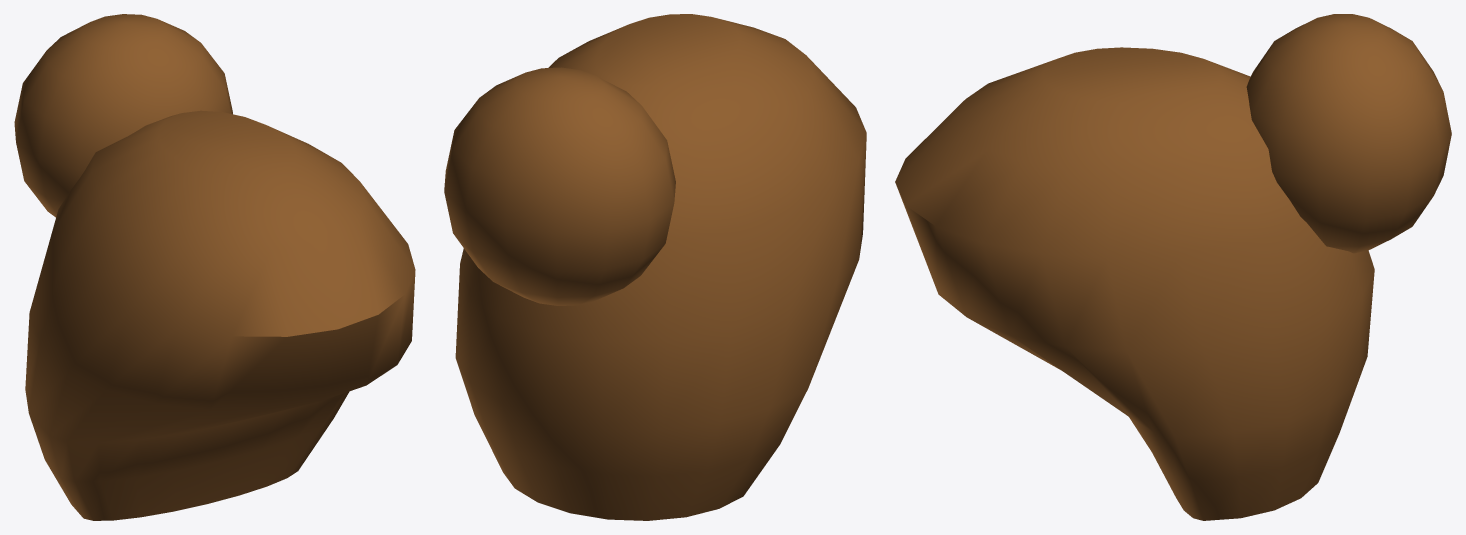
File: npc_hair2.glb
3 views of the same model, side by side, from view 1: azimuth 30°, elevation 25°; view 2: azimuth 150°, elevation 25°; view 3: azimuth 270°, elevation 25° (orthographic). The views are drawn at different scales.
Parts seen in each view (by area): view 1: npc_hair2; view 2: npc_hair2; view 3: npc_hair2.
Boxes of the visible parts, bbox=[...] form: npc_hair2: bbox=[14, 14, 415, 520]; npc_hair2: bbox=[444, 14, 866, 520]; npc_hair2: bbox=[895, 14, 1451, 520].
Size of the model in its own units: 0.16 by 0.202 by 0.231.
